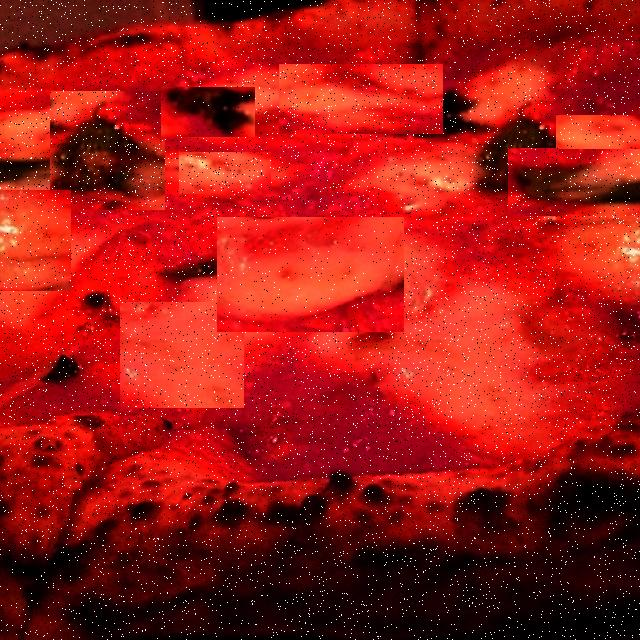Basil: (50, 91, 165, 210), (508, 148, 640, 216), (161, 87, 255, 137)
Cheese: (217, 217, 404, 332), (120, 302, 244, 408), (279, 64, 443, 134), (0, 190, 71, 291), (179, 152, 271, 194), (556, 115, 640, 149)
Pizza: (0, 0, 640, 640)
